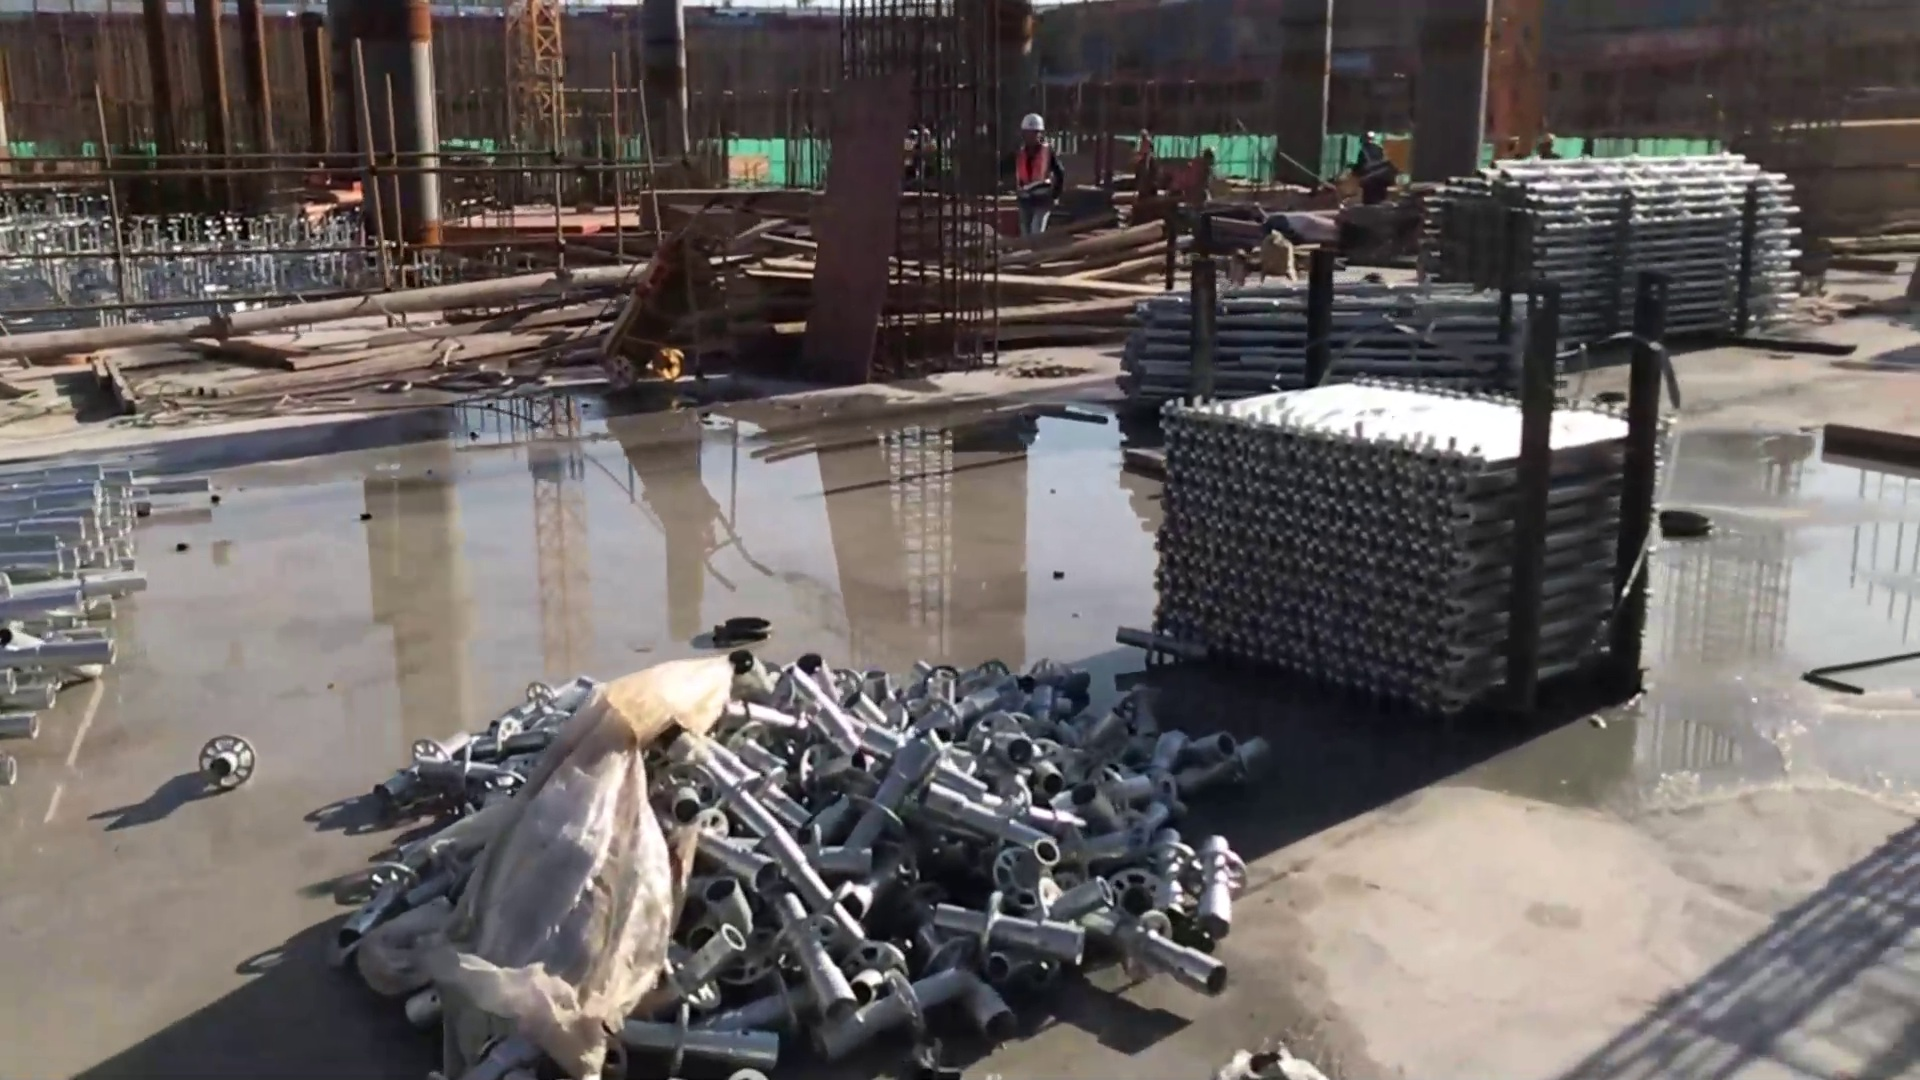helmet: (1020, 113, 1048, 133)
person: (1011, 108, 1063, 250), (1354, 127, 1396, 199), (1177, 143, 1220, 208), (1134, 127, 1156, 162)
scaffold: (731, 653, 1223, 1042), (1156, 381, 1639, 733), (1420, 156, 1806, 349), (1124, 287, 1566, 450), (2, 461, 133, 800)
vest: (1015, 144, 1060, 199)
